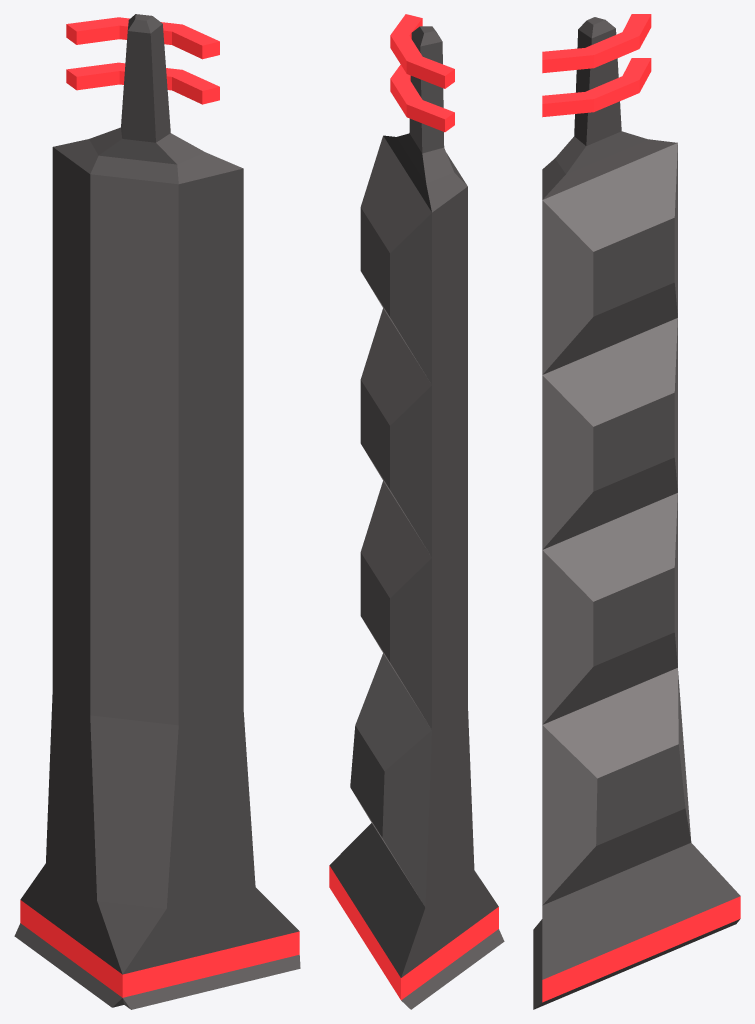
Rendered from scifi_scifi-barrier-large-corner-electric.fbx.
3 views of the same model, side by side, from view 1: azimuth 30°, elevation 25°; view 2: azimuth 150°, elevation 25°; view 3: azimuth 270°, elevation 25° (orthographic). The views are drawn at different scales.
Parts seen in each view (by area): view 1: scifi_scifi_barrier_large_corner_electric; view 2: scifi_scifi_barrier_large_corner_electric; view 3: scifi_scifi_barrier_large_corner_electric.
Part boxes in pixels (x1,y1,x2,y2): scifi_scifi_barrier_large_corner_electric: (14,14,300,1009); scifi_scifi_barrier_large_corner_electric: (329,14,504,1009); scifi_scifi_barrier_large_corner_electric: (533,14,740,1009).
Bounding box in the file's own units: 40.47 × 200 × 40.47.
